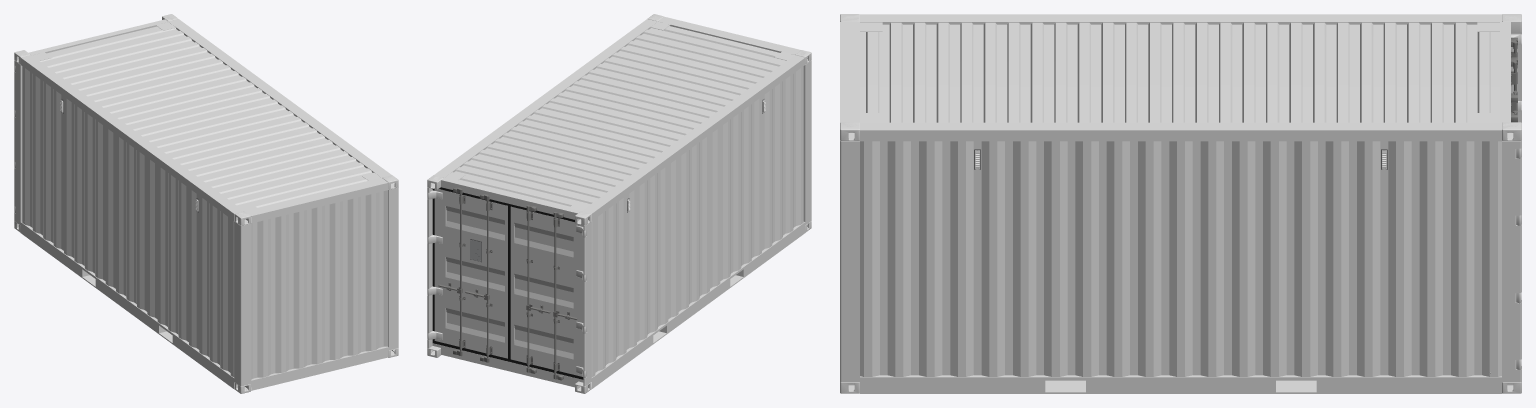
File: Container_20ft.fbx
3 views of the same model, side by side, from view 1: azimuth 30°, elevation 25°; view 2: azimuth 150°, elevation 25°; view 3: azimuth 270°, elevation 25° (orthographic). The views are drawn at different scales.
Visible parts, largest first — view 1: Body_Wall_Xn, Body_Roof, Body_Wall_Yn, Rail_Side_Xn_Top, Post_Corner_XnYn, Rail_Side_Xp_Top, Rail_Side_Xn_Bottom, Rail_End_Yn_Top, Post_Corner_XpYn, Rail_End_Yn_Bottom, Post_Corner_XnYp, Rail_End_Yp_Top; view 2: Body_Wall_Xn, Body_Roof, Door_L, Door_R, Rail_Side_Xn_Top, Rail_Side_Xp_Top, Rail_Side_Xn_Bottom, Post_Corner_XnYn, Rail_End_Yp_Top, Post_Corner_XnYp, Rail_End_Yp_Bottom, Rail_End_Yn_Top (+5 smaller); view 3: Body_Wall_Xp, Body_Roof, Rail_Side_Xp_Top, Rail_Side_Xp_Bottom, Rail_Side_Xn_Top, Post_Corner_XpYn, Post_Corner_XpYp, Rail_End_Yn_Top, Rail_End_Yp_Top.
Boxes of the visible parts, box(x1,y1,x2,y2) form: Body_Wall_Xn: box(22, 66, 234, 377); Body_Roof: box(40, 26, 372, 207); Body_Wall_Yn: box(251, 190, 387, 379); Rail_Side_Xn_Top: box(20, 55, 243, 220); Post_Corner_XnYn: box(234, 221, 251, 386); Rail_Side_Xp_Top: box(168, 19, 391, 177); Rail_Side_Xn_Bottom: box(20, 222, 234, 389); Rail_End_Yn_Top: box(245, 178, 388, 223); Post_Corner_XpYn: box(388, 187, 398, 350); Rail_End_Yn_Bottom: box(251, 346, 388, 390); Post_Corner_XnYp: box(14, 60, 22, 224); Rail_End_Yp_Top: box(28, 19, 168, 55); Body_Wall_Xn: box(591, 66, 803, 377); Body_Roof: box(454, 26, 786, 207); Door_L: box(510, 206, 583, 376); Door_R: box(434, 189, 507, 358); Rail_Side_Xn_Top: box(582, 55, 805, 220); Rail_Side_Xp_Top: box(434, 19, 657, 177); Rail_Side_Xn_Bottom: box(591, 222, 805, 389); Post_Corner_XnYn: box(803, 60, 811, 224); Rail_End_Yp_Top: box(441, 177, 581, 219); Post_Corner_XnYp: box(583, 221, 591, 386); Rail_End_Yp_Bottom: box(432, 343, 583, 387); Rail_End_Yn_Top: box(658, 16, 800, 54); Body_Wall_Xp: box(860, 141, 1501, 376); Body_Roof: box(860, 22, 1499, 122); Rail_Side_Xp_Top: box(860, 122, 1501, 141); Rail_Side_Xp_Bottom: box(860, 375, 1501, 393); Rail_Side_Xn_Top: box(860, 14, 1501, 24); Post_Corner_XpYn: box(840, 140, 859, 382); Post_Corner_XpYp: box(1502, 140, 1521, 382); Rail_End_Yn_Top: box(840, 22, 859, 122); Rail_End_Yp_Top: box(1500, 22, 1510, 122).
Size of the model in its own units: 25.24 by 10.16 by 10.8.
